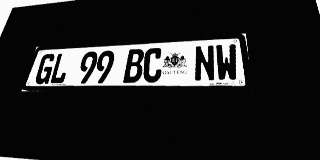9: (76, 51, 99, 84), (93, 50, 116, 83)
B: (123, 49, 145, 83)
C: (142, 48, 163, 83)
G: (33, 53, 57, 84)
L: (48, 53, 72, 84)
N: (194, 45, 216, 82)
W: (215, 44, 239, 81)
